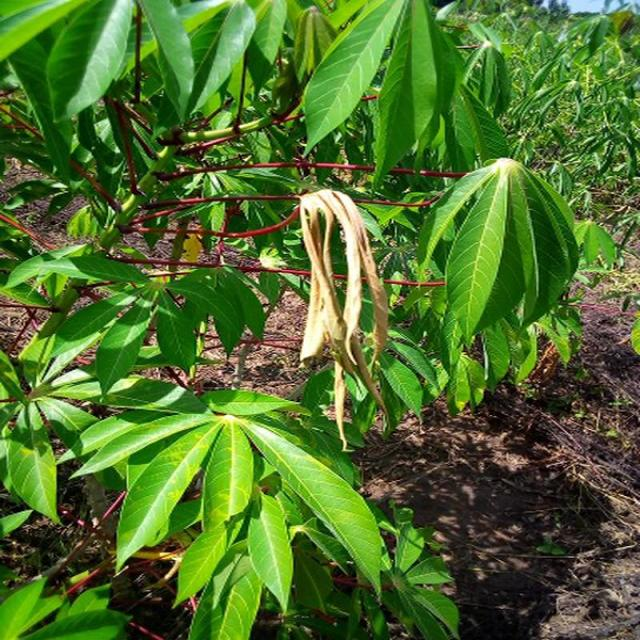cassava leaf: (69, 379, 385, 638), (416, 155, 579, 350)
